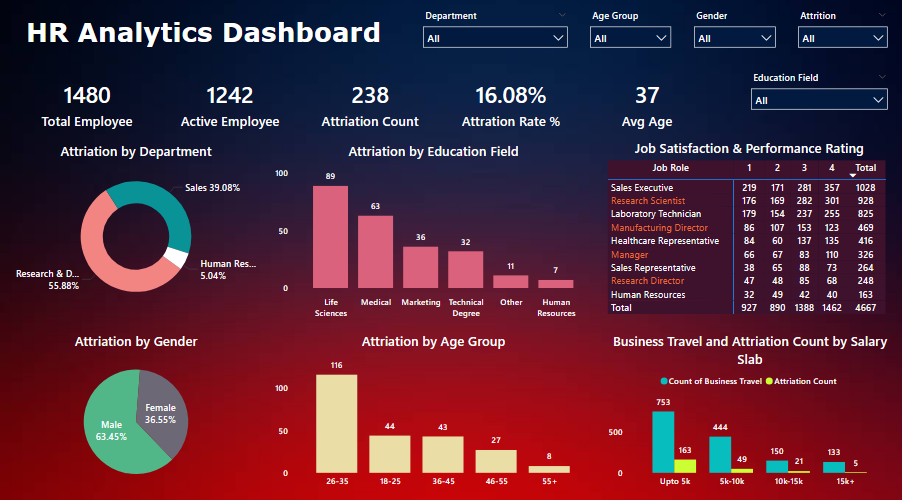

This screenshot's page, from the dashboard's own definition file:
{"tool":"powerbi","page":{"name":"Page 1","canvas":[1280,720],"ordinal":0},"visuals":[{"type":"textbox","box":[17,25.5,545.7,72.3],"z":0},{"type":"slicer","fields":{"Values":["HR_Analytics.Department"]},"box":[591,17,225.4,75.1],"z":1000},{"type":"slicer","fields":{"Values":["HR_Analytics.Age Group"]},"box":[827.7,17,134.6,75.1],"z":2000},{"type":"slicer","fields":{"Values":["HR_Analytics.Gender"]},"box":[975.1,17,136.1,75.1],"z":3000},{"type":"slicer","fields":{"Values":["HR_Analytics.Attrition"]},"box":[1122.5,17,147.4,75.1],"z":4000},{"type":"card","fields":{"Values":["Measures (2).Total Employee Count"]},"box":[34,104.9,181.4,100.6],"z":5000},{"type":"card","fields":{"Values":["Measures (2).Attriation Count"]},"box":[435.1,104.9,181.4,100.6],"z":6000},{"type":"card","fields":{"Values":["Measures (2).Attration Rate %"]},"box":[635,104.9,181.4,100.6],"z":7000},{"type":"card","fields":{"Values":["Measures (2).Active Employee"]},"box":[236.7,104.9,181.4,100.6],"z":8000},{"type":"slicer","fields":{"Values":["HR_Analytics.Education Field"]},"box":[1055.9,104.9,214,75.1],"z":9000},{"type":"card","fields":{"Values":["Measures (2).Avg Age"]},"box":[827.7,104.9,181.4,100.6],"z":10000},{"type":"donutChart","title":"Attriation  by Department","fields":{"Category":["HR_Analytics.Department"],"Y":["Measures (2).Attriation Count"]},"box":[17,209.8,354.3,258],"z":11000},{"type":"pieChart","title":"Attriation  by Gender","fields":{"Y":["Measures (2).Attriation Count"],"Category":["HR_Analytics.Gender"]},"box":[17,479.1,354.3,229.6],"z":12000},{"type":"clusteredColumnChart","title":"Attriation  by Age Group","fields":{"Y":["Measures (2).Attriation Count"],"Category":["HR_Analytics.Age Group"]},"box":[385.5,479.1,460.6,229.6],"z":13000},{"type":"columnChart","title":"Attriation  by Education Field","fields":{"Category":["HR_Analytics.Education Field"],"Y":["Measures (2).Attriation Count"]},"box":[385.5,209.8,460.6,258],"z":14000},{"type":"pivotTable","title":"Job Satisfaction & Performance Rating","fields":{"Rows":["HR_Analytics.Job Role"],"Columns":["HR_Analytics.Job Satisfaction"],"Values":["Sum(HR_Analytics.Performance Rating)"]},"box":[857.5,205.5,412.4,258],"z":15000},{"type":"clusteredColumnChart","title":"Business Travel and Attriation Count by Salary Slab","fields":{"Category":["HR_Analytics.Salary Slab"],"Y":["CountNonNull(HR_Analytics.Business Travel)","Measures (2).Attriation Count"]},"box":[858.9,479.1,411,229.6],"z":16000}]}

Visuals, with their boxes in screenshot pixels (x1, y1, x2, y2), scaled from the page's 1280x720 canvas onto the 902x500 screenshot:
textbox: crop(12, 18, 397, 68)
slicer - HR_Analytics.Department: crop(416, 12, 575, 64)
slicer - HR_Analytics.Age Group: crop(583, 12, 678, 64)
slicer - HR_Analytics.Gender: crop(687, 12, 783, 64)
slicer - HR_Analytics.Attrition: crop(791, 12, 895, 64)
card - Measures (2).Total Employee Count: crop(24, 73, 152, 143)
card - Measures (2).Attriation Count: crop(307, 73, 434, 143)
card - Measures (2).Attration Rate %: crop(447, 73, 575, 143)
card - Measures (2).Active Employee: crop(167, 73, 295, 143)
slicer - HR_Analytics.Education Field: crop(744, 73, 895, 125)
card - Measures (2).Avg Age: crop(583, 73, 711, 143)
"Attriation  by Department" donutChart: crop(12, 146, 262, 325)
"Attriation  by Gender" pieChart: crop(12, 333, 262, 492)
"Attriation  by Age Group" clusteredColumnChart: crop(272, 333, 596, 492)
"Attriation  by Education Field" columnChart: crop(272, 146, 596, 325)
"Job Satisfaction & Performance Rating" pivotTable: crop(604, 143, 895, 322)
"Business Travel and Attriation Count by Salary Slab" clusteredColumnChart: crop(605, 333, 895, 492)
